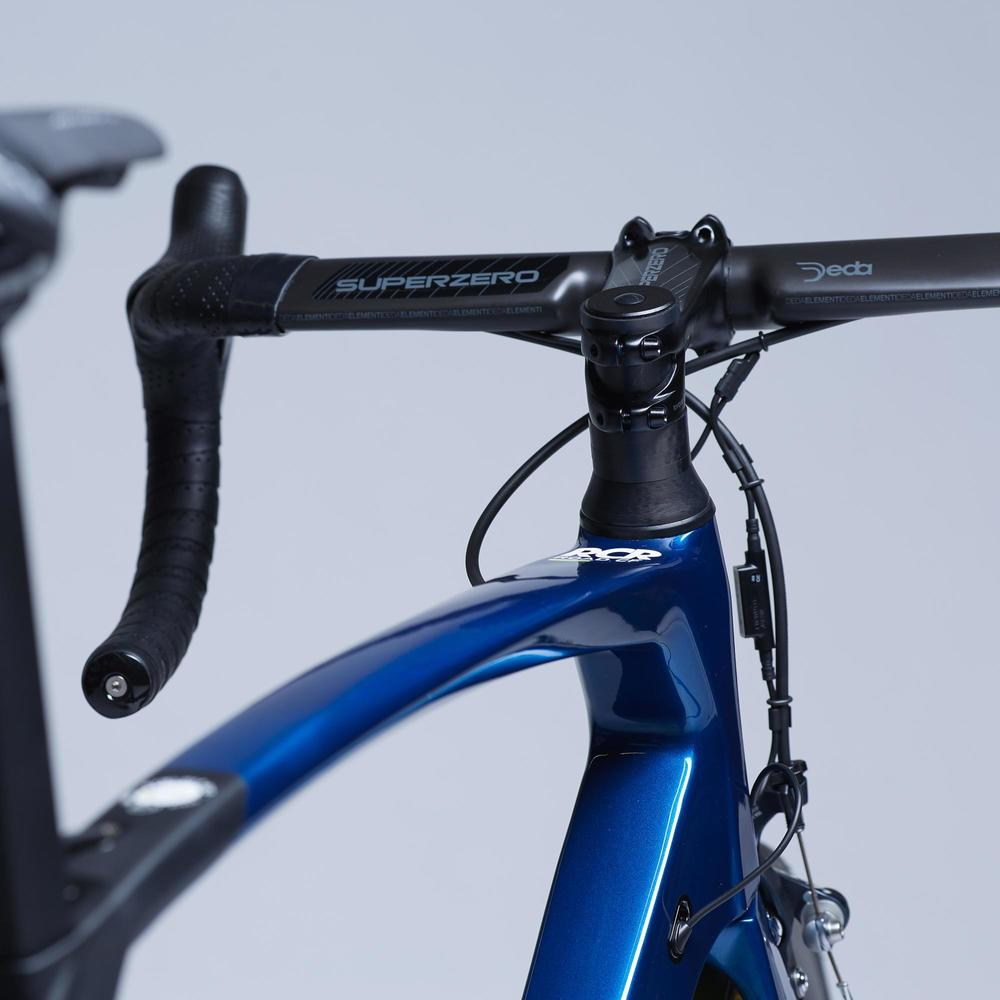RoadBike: (0, 87, 994, 991)
